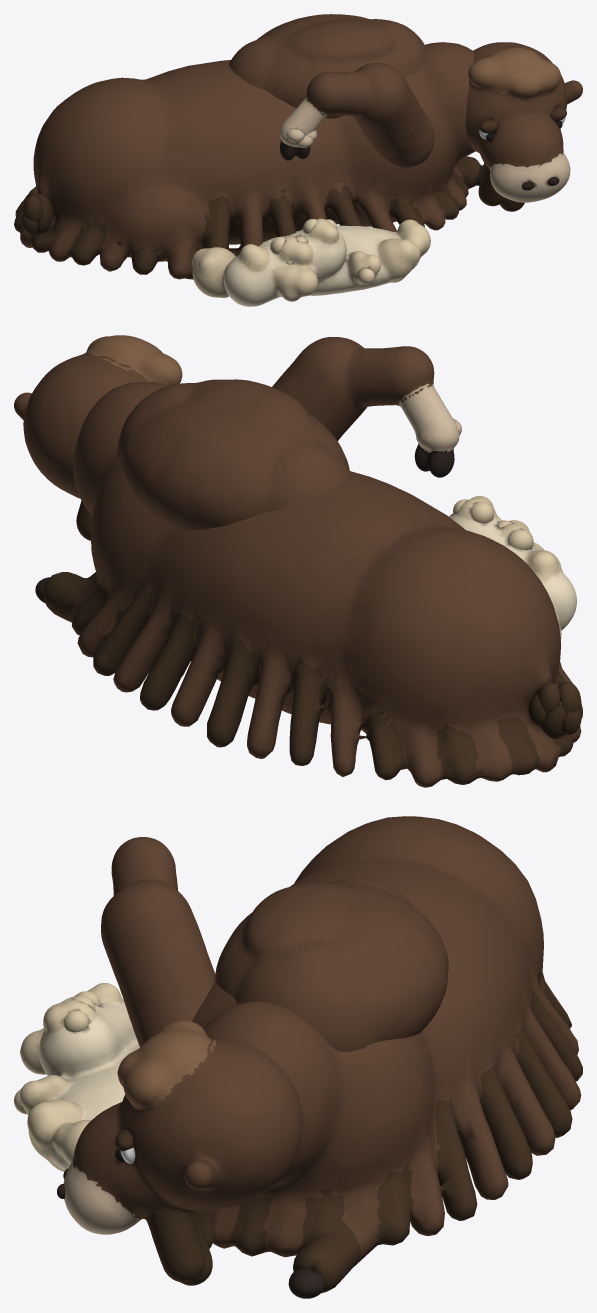
Rendered from sov-gott.glb.
3 views of the same model, one above another, from view 1: azimuth 30°, elevation 25°; view 2: azimuth 150°, elevation 25°; view 3: azimuth 270°, elevation 25° (orthographic). The views are drawn at different scales.
Parts seen in each view (by area): view 1: iaque__r0, cabeca__r0, ninho__r0, corcova__r0, pata__r0, iaque__r1, iaque__r6; view 2: iaque__r0, corcova__r0, pata__r0, cabeca__r0, ninho__r0, iaque__r1; view 3: iaque__r0, cabeca__r0, corcova__r0, pata__r0, ninho__r0, iaque__r8.
Part boxes in pixels (<box>): iaque__r0: <box>14,42,481,279</box>; cabeca__r0: <box>466,42,582,211</box>; ninho__r0: <box>192,218,430,306</box>; corcova__r0: <box>229,14,424,118</box>; pata__r0: <box>279,63,434,167</box>; iaque__r1: <box>35,194,54,234</box>; iaque__r6: <box>23,195,42,221</box>; iaque__r0: <box>43,381,582,787</box>; corcova__r0: <box>117,379,351,530</box>; pata__r0: <box>272,337,459,477</box>; cabeca__r0: <box>14,335,182,540</box>; ninho__r0: <box>449,496,576,640</box>; iaque__r1: <box>540,681,565,738</box>; iaque__r0: <box>192,816,582,1293</box>; cabeca__r0: <box>63,1020,303,1285</box>; corcova__r0: <box>215,877,448,1051</box>; pata__r0: <box>101,837,215,1047</box>; ninho__r0: <box>20,983,139,1171</box>; iaque__r8: <box>288,1268,325,1298</box>.
Size of the model in its own units: 4.59 by 1.87 by 3.06.
